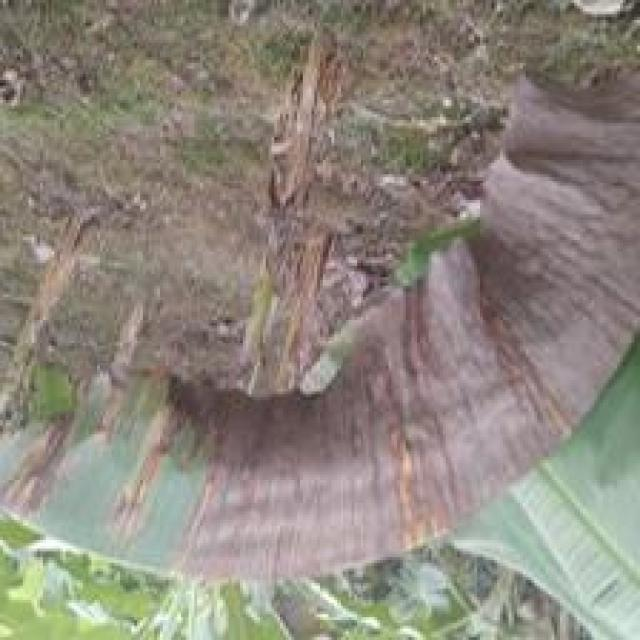Bract_mosaic_virus: (508, 71, 640, 348), (220, 390, 329, 590), (552, 342, 620, 433)
Early_leaf_spot: (382, 247, 563, 465), (339, 318, 486, 542), (96, 392, 170, 543), (0, 408, 84, 526), (454, 456, 559, 515)
